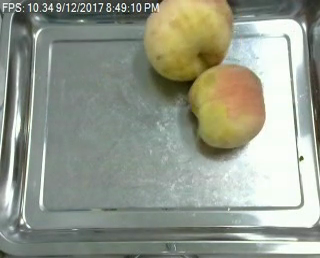Peach: (144, 0, 233, 80), (188, 63, 265, 148)
